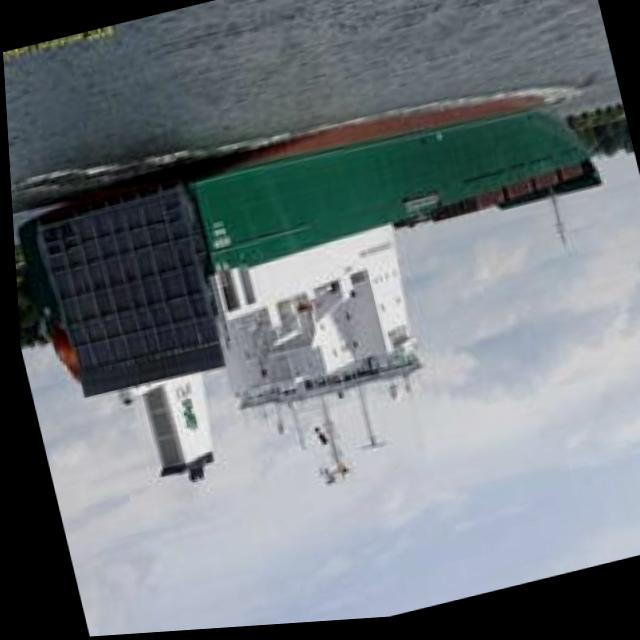ship2: (12, 96, 601, 483)
